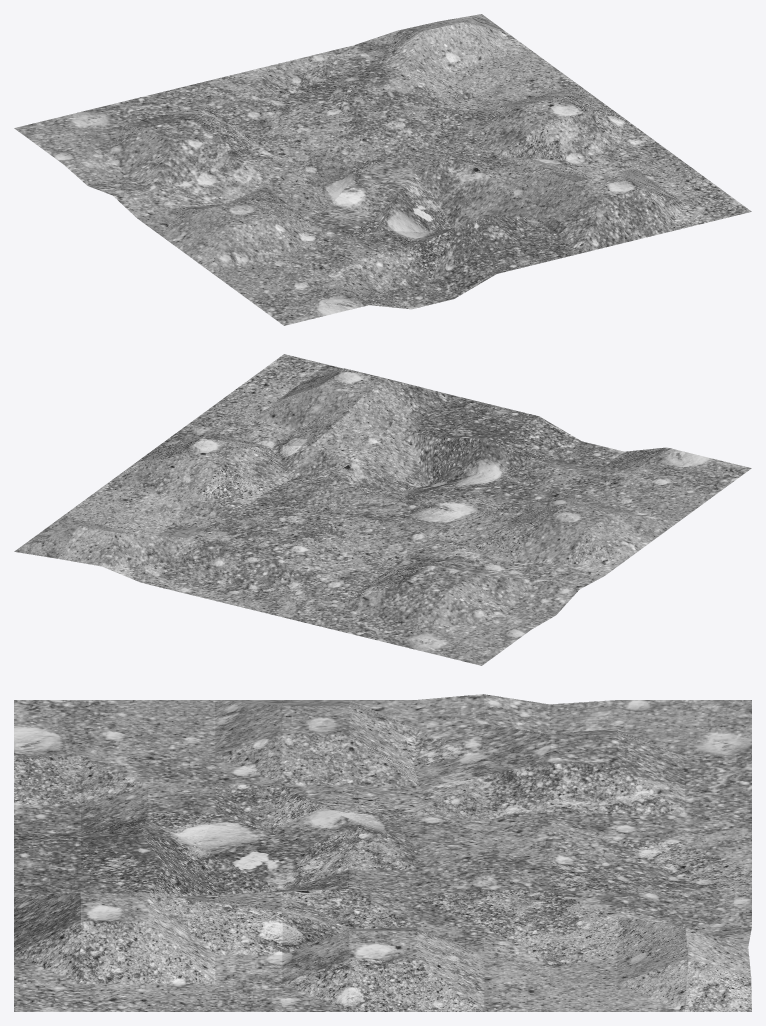
Rendered from lunarFloor.fbx.
The picture shows the model from 3 angles, top to bottom: view 1: azimuth 30°, elevation 25°; view 2: azimuth 150°, elevation 25°; view 3: azimuth 270°, elevation 25°; orthographic projection. The views are drawn at different scales.
Parts seen in each view (by area): view 1: Plane; view 2: Plane; view 3: Plane.
Part boxes in pixels (x1=…): Plane: x1=14, y1=14, x2=751, y2=325; Plane: x1=14, y1=354, x2=751, y2=665; Plane: x1=14, y1=694, x2=751, y2=1011.
Size of the model in its own units: 76431 by 7659 by 76365.
1 material, 1 textured.
